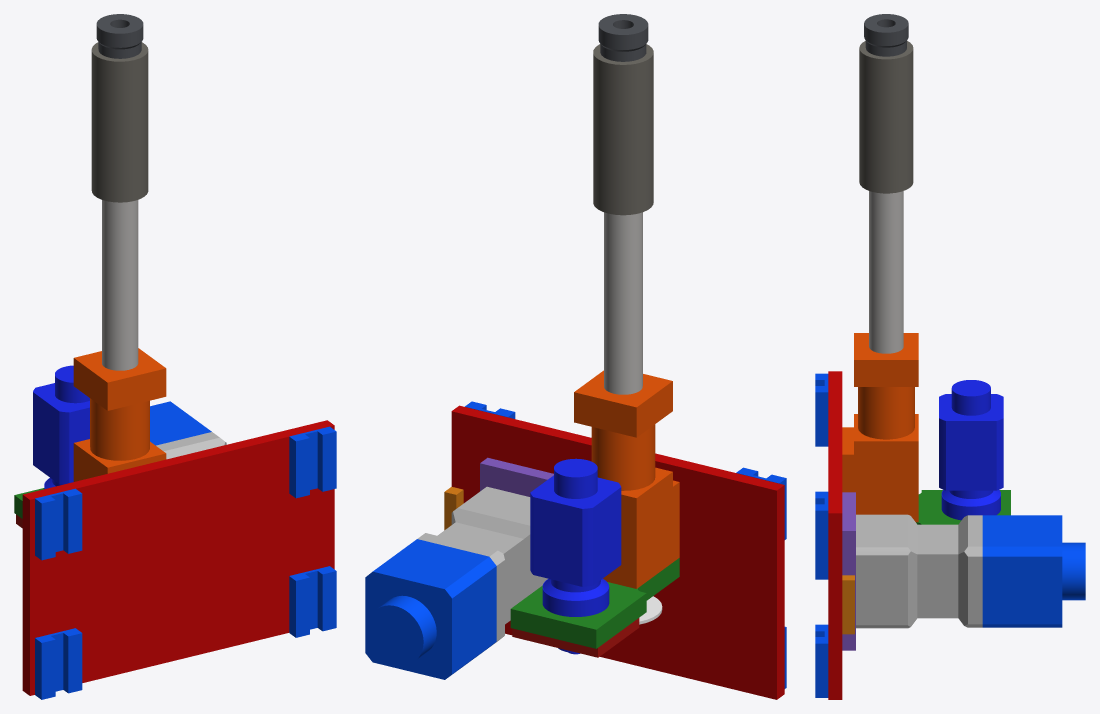
Rendered from pens.glb.
The picture shows the model from 3 angles, left to right: view 1: azimuth 30°, elevation 25°; view 2: azimuth 150°, elevation 25°; view 3: azimuth 270°, elevation 25°; orthographic projection. The views are drawn at different scales.
Parts seen in each view (by area): view 1: 05 - 04 - PENS ALT TABLA, 05 - 07 - PENS G\X\D6VDES\X2\0130\X0\, RECKON-40.1-RED\X\DCKT\X\D6R, SOLID, SOLID001, SOLID002, SOLID003, SB180-2-114.3M12, SB180-2-114.3M013, RECKON-40.1-RED\X\DCKT\X\D6R001; view 2: 05 - 04 - PENS ALT TABLA, 05 - 07 - PENS G\X\D6VDES\X2\0130\X0\, SB180-2-114.3M12, RECKON-40.1-RED\X\DCKT\X\D6R, SB180-2-114.3M013, 05 -36 - RED\X\DCKT\X\D6R BA\X2\011E\X0\LANTI D\X2\0130\X0\K, RECKON-40.1-RED\X\DCKT\X\D6R001, 05 - 31 - \X2\0130\X0\TME RED\X\DCKT\X\D6R ALTI (SB180-2-114, 05 - 37 -D\X\D6ND\X\DCRME REDUKTOR TUTUCU; view 3: 05 - 07 - PENS G\X\D6VDES\X2\0130\X0\, SB180-2-114.3M013, SB180-2-114.3M12, RECKON-40.1-RED\X\DCKT\X\D6R, 05 - 04 - PENS ALT TABLA, RECKON-40.1-RED\X\DCKT\X\D6R001, 05 - 31 - \X2\0130\X0\TME RED\X\DCKT\X\D6R ALTI (SB180-2-114, 05 -36 - RED\X\DCKT\X\D6R BA\X2\011E\X0\LANTI D\X2\0130\X0\K, SOLID001, SOLID002, SOLID003, 05 - 34 - SERVO MOTOR DESTEK TAMPONU.
Boxes of the visible parts, box(x1,y1,x2,y2) form: 05 - 04 - PENS ALT TABLA: box(22, 420, 334, 695); 05 - 07 - PENS G\X\D6VDES\X2\0130\X0\: box(73, 14, 166, 481); RECKON-40.1-RED\X\DCKT\X\D6R: box(33, 365, 89, 471); SOLID: box(35, 628, 82, 699); SOLID001: box(35, 488, 82, 560); SOLID002: box(289, 566, 336, 637); SOLID003: box(289, 426, 336, 498); SB180-2-114.3M12: box(150, 401, 211, 445); SB180-2-114.3M013: box(156, 432, 226, 459); RECKON-40.1-RED\X\DCKT\X\D6R001: box(33, 451, 73, 489); 05 - 04 - PENS ALT TABLA: box(451, 405, 784, 699); 05 - 07 - PENS G\X\D6VDES\X2\0130\X0\: box(574, 14, 679, 624); SB180-2-114.3M12: box(365, 539, 496, 679); RECKON-40.1-RED\X\DCKT\X\D6R: box(530, 458, 621, 571); SB180-2-114.3M013: box(417, 486, 547, 644); 05 -36 - RED\X\DCKT\X\D6R BA\X2\011E\X0\LANTI D\X2\0130\X0\K: box(510, 558, 679, 648); RECKON-40.1-RED\X\DCKT\X\D6R001: box(530, 550, 621, 654); 05 - 31 - \X2\0130\X0\TME RED\X\DCKT\X\D6R ALTI (SB180-2-114: box(480, 457, 553, 496); 05 - 37 -D\X\D6ND\X\DCRME REDUKTOR TUTUCU: box(512, 618, 639, 657); 05 - 07 - PENS G\X\D6VDES\X2\0130\X0\: box(842, 14, 918, 522); SB180-2-114.3M013: box(856, 514, 982, 628); SB180-2-114.3M12: box(982, 515, 1085, 627); RECKON-40.1-RED\X\DCKT\X\D6R: box(939, 380, 1003, 477); 05 - 04 - PENS ALT TABLA: box(828, 371, 842, 699); RECKON-40.1-RED\X\DCKT\X\D6R001: box(939, 474, 1003, 520); 05 - 31 - \X2\0130\X0\TME RED\X\DCKT\X\D6R ALTI (SB180-2-114: box(842, 492, 855, 650); 05 -36 - RED\X\DCKT\X\D6R BA\X2\011E\X0\LANTI D\X2\0130\X0\K: box(916, 490, 1010, 524); SOLID001: box(815, 373, 828, 446); SOLID002: box(815, 624, 828, 697); SOLID003: box(815, 491, 828, 564); 05 - 34 - SERVO MOTOR DESTEK TAMPONU: box(842, 575, 854, 634).
Bounding box in the file's own units: 0.675 × 1.31 × 0.544.
